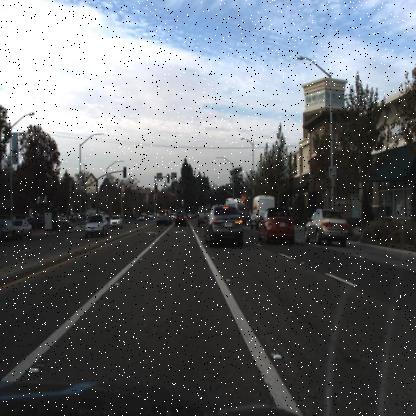car: (205, 203, 244, 249), (304, 207, 347, 247), (256, 207, 294, 245), (84, 212, 108, 237), (10, 217, 31, 240), (197, 205, 211, 226), (174, 208, 188, 226), (156, 209, 171, 225), (109, 215, 121, 230)
truck: (249, 194, 274, 230)
